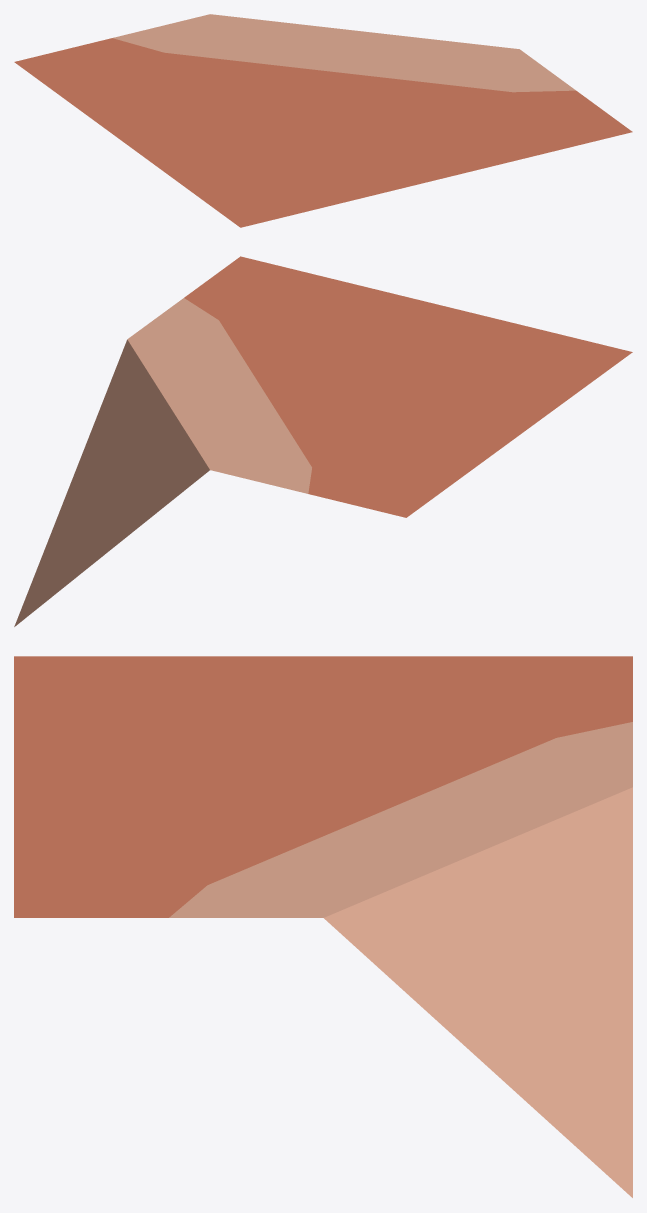
Rendered from terrain_sideCornerInner.glb.
3 renders of one model, top to bottom at view 1: azimuth 30°, elevation 25°; view 2: azimuth 150°, elevation 25°; view 3: azimuth 270°, elevation 25°, orthographic. The views are drawn at different scales.
Parts seen in each view (by area): view 1: terrain_sideCornerInner; view 2: terrain_sideCornerInner; view 3: terrain_sideCornerInner.
Part boxes in pixels (x1,y1,x2,y2): terrain_sideCornerInner: (14,14,632,227); terrain_sideCornerInner: (14,256,632,626); terrain_sideCornerInner: (14,656,632,1197).
Bounding box in the file's own units: 1.4 × 0.702 × 1.4.
